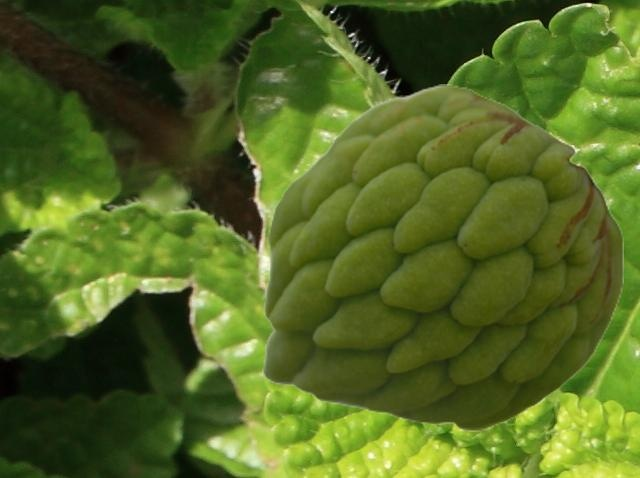atis: (262, 84, 622, 430)
